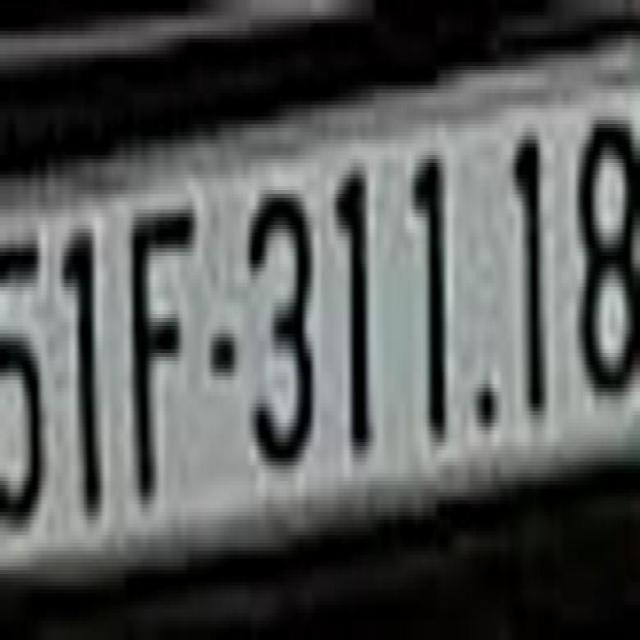1: (332, 136, 374, 450), (414, 124, 452, 458), (66, 206, 106, 520), (512, 128, 550, 407)
3: (238, 167, 315, 469)
5: (0, 228, 43, 535)
8: (581, 112, 640, 396)
F: (132, 205, 196, 492)
